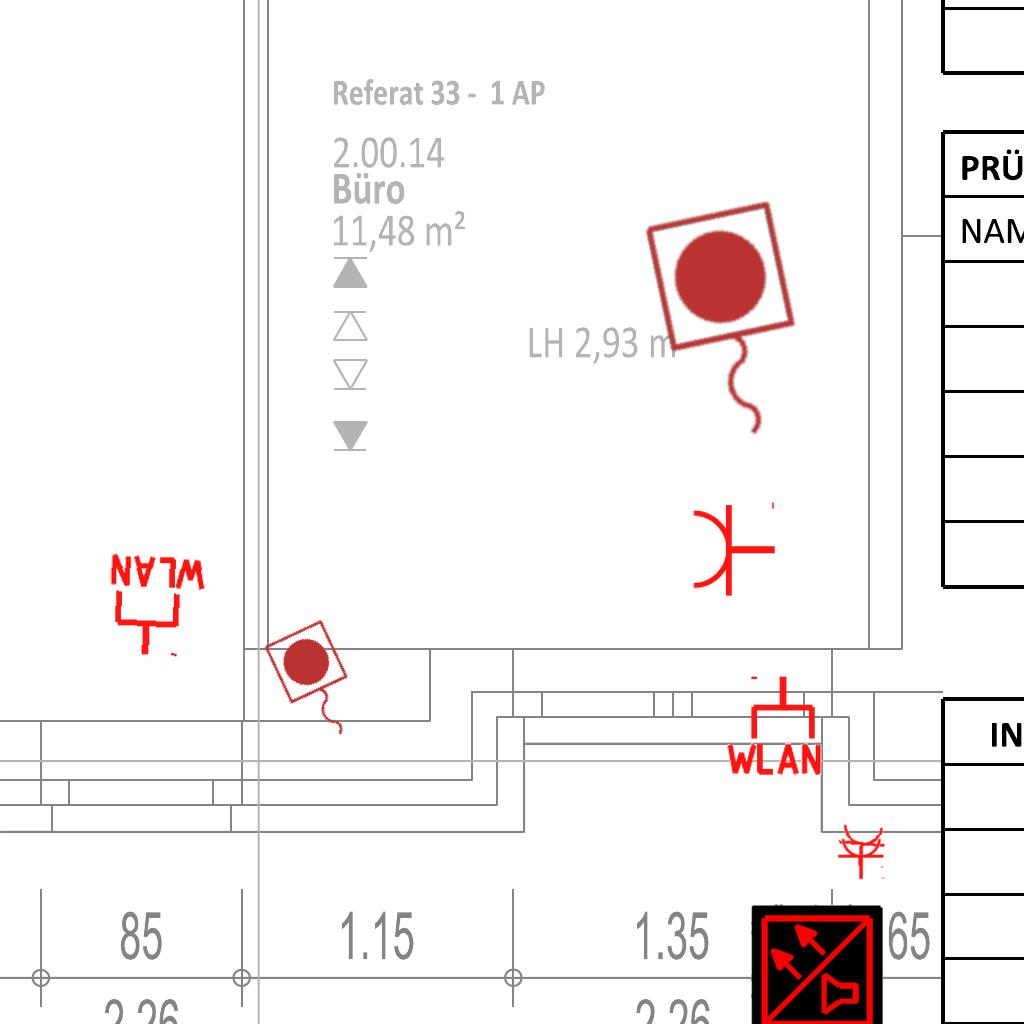OKW_Multisensormelder_(Kombination_optischer_Rauch-Kahlenmonoxid_Waerme-Melder): (751, 904, 883, 1024)
Schukosteckdose_einfach: (690, 498, 777, 598), (835, 822, 890, 870), (837, 837, 887, 880)
WLAN: (101, 551, 212, 663), (722, 672, 826, 777)
Zugtaster: (633, 191, 825, 461), (257, 614, 375, 756)
